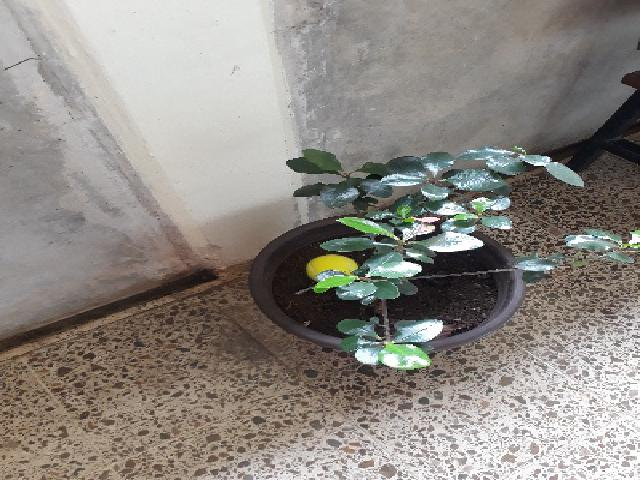Ball: (306, 254, 357, 277)
